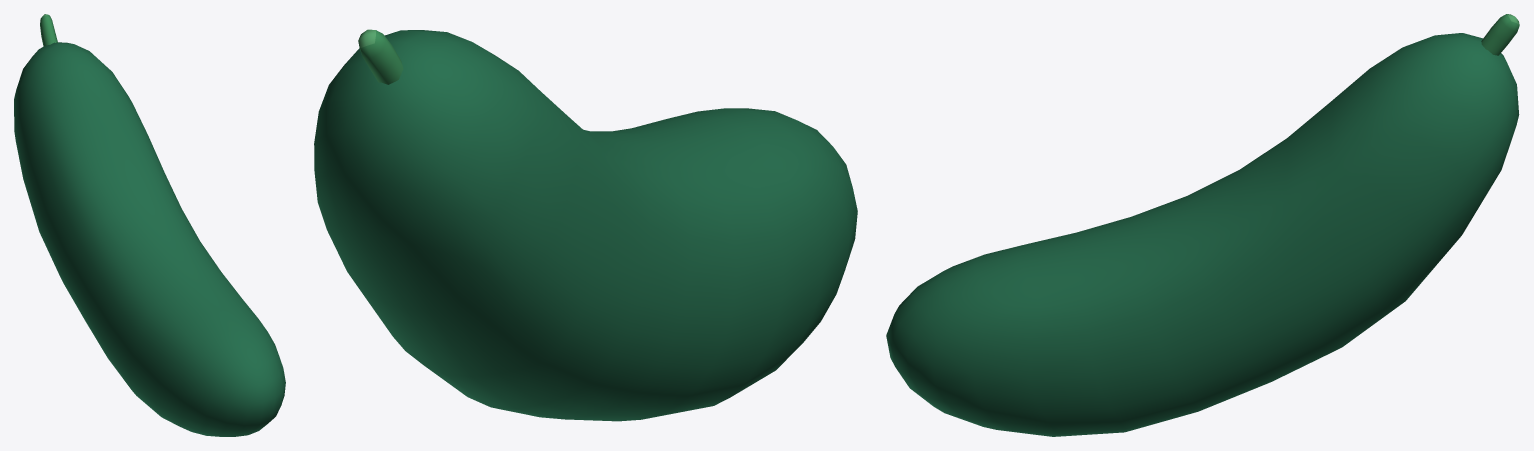
File: Cucumber_03.dae
3 views of the same model, side by side, from view 1: azimuth 30°, elevation 25°; view 2: azimuth 150°, elevation 25°; view 3: azimuth 270°, elevation 25° (orthographic). The views are drawn at different scales.
Parts seen in each view (by area): view 1: Cucumber_03_LOD0; view 2: Cucumber_03_LOD0; view 3: Cucumber_03_LOD0.
Boxes of the visible parts, left/top/right/bottom form: Cucumber_03_LOD0: left=14, top=14, right=285, bottom=436; Cucumber_03_LOD0: left=314, top=29, right=857, bottom=421; Cucumber_03_LOD0: left=886, top=14, right=1519, bottom=436.
Size of what is drawn, in the model's own units: 1.94 by 6.42 by 4.58.
